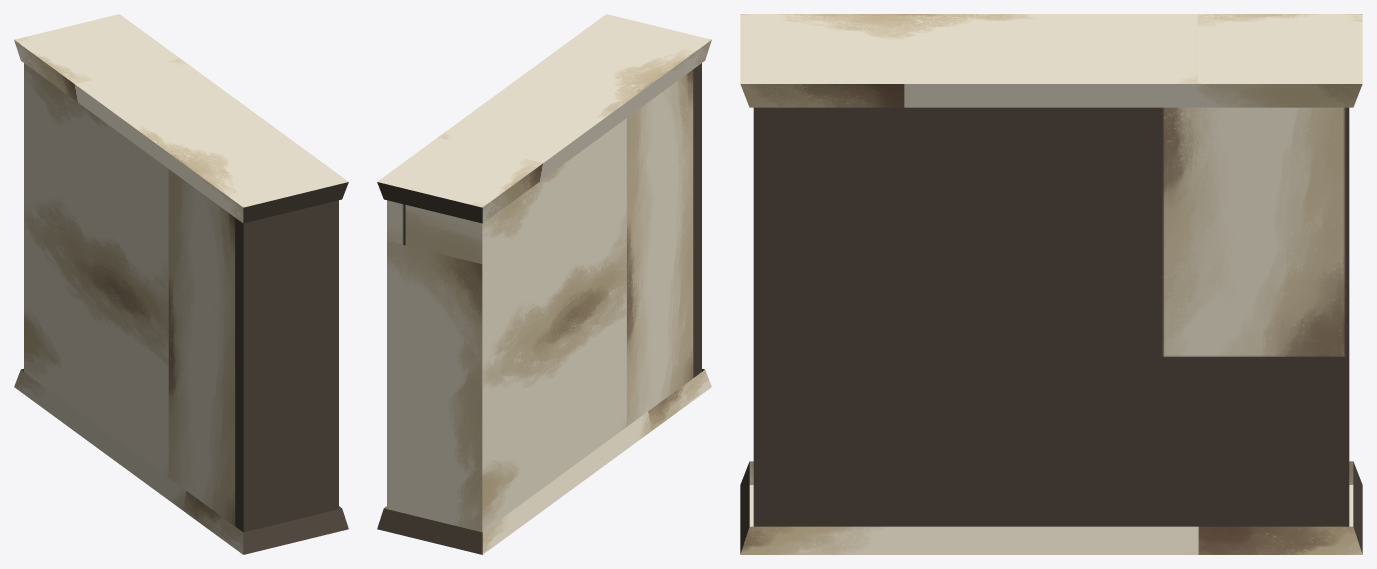
Rendered from dirtywall.obj.
The picture shows the model from 3 angles, left to right: view 1: azimuth 30°, elevation 25°; view 2: azimuth 150°, elevation 25°; view 3: azimuth 270°, elevation 25°; orthographic projection. The views are drawn at different scales.
Parts seen in each view (by area): view 1: polySurface12; view 2: polySurface12; view 3: polySurface12.
Part boxes in pixels (x1,y1,x2,y2): polySurface12: (14,14,348,554); polySurface12: (377,14,711,554); polySurface12: (740,14,1362,554).
Size of the model in its own units: 1.05 by 3.3 by 3.95.
Materials: 1 (1 with a texture image).
